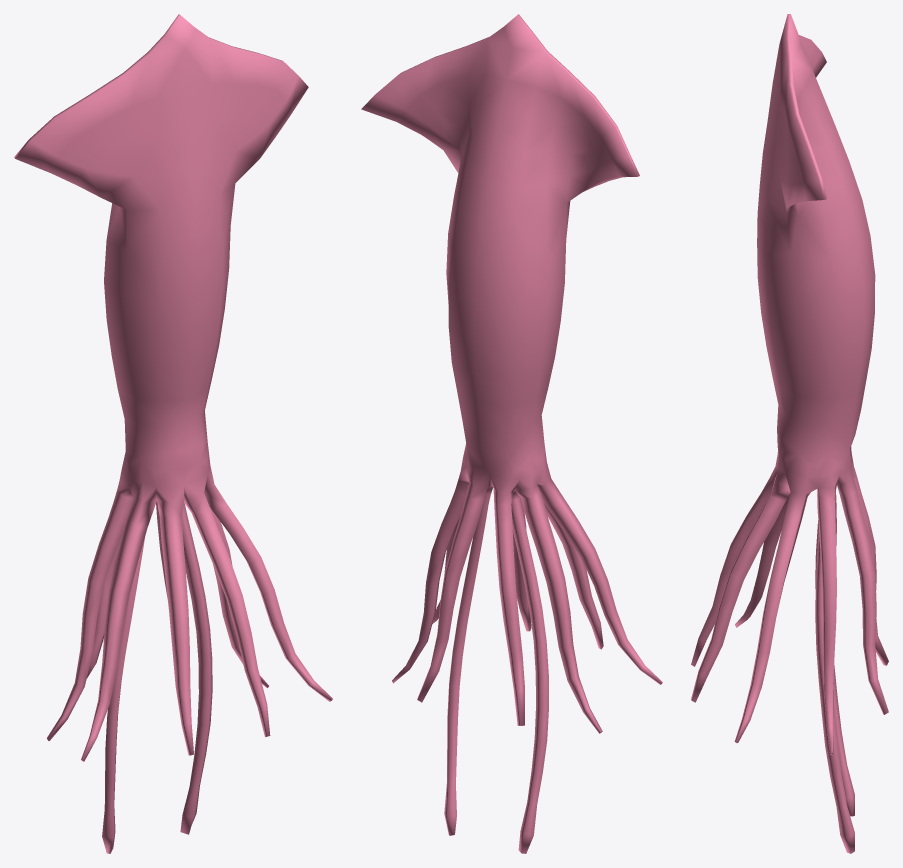
The model's file is Squid_001.glb.
The picture shows the model from 3 angles, left to right: view 1: azimuth 30°, elevation 25°; view 2: azimuth 150°, elevation 25°; view 3: azimuth 270°, elevation 25°; orthographic projection. The views are drawn at different scales.
Visible parts, largest first — view 1: Squid_001; view 2: Squid_001; view 3: Squid_001.
Boxes of the visible parts, x1=… form: Squid_001: x1=14, y1=14, x2=332, y2=853; Squid_001: x1=361, y1=14, x2=662, y2=853; Squid_001: x1=691, y1=14, x2=888, y2=853.
Bounding box in the file's own units: 0.8694 × 2.41 × 0.5271.
1 material, 1 textured.
